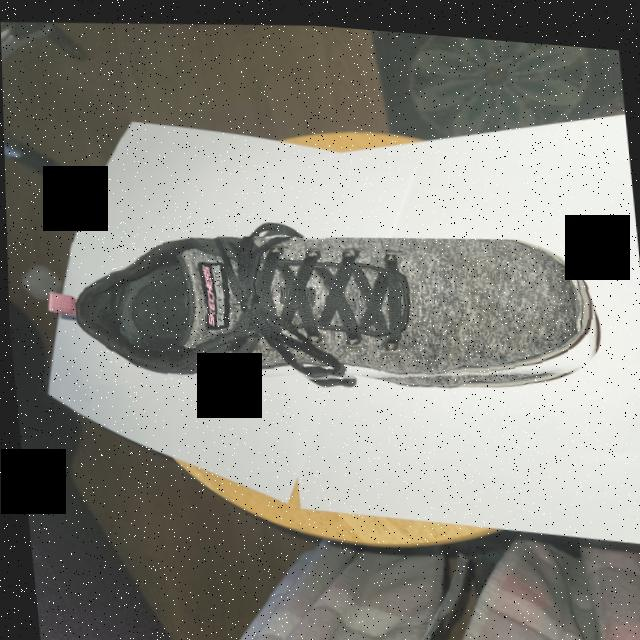shoe: (65, 195, 607, 418)
